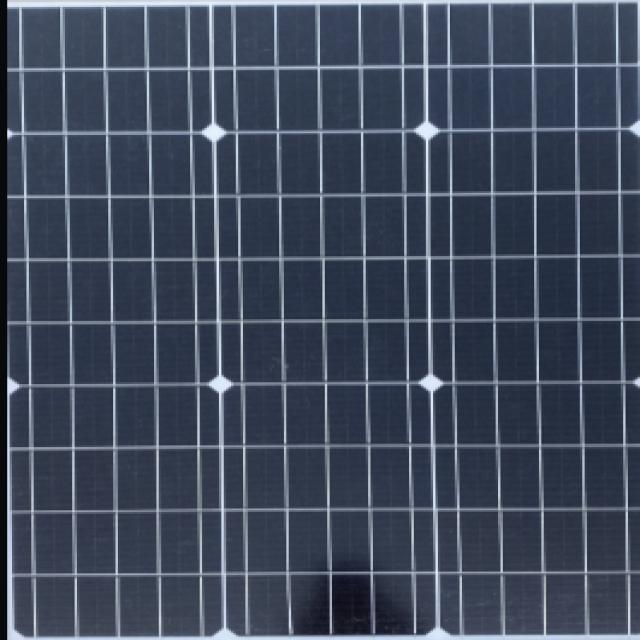clean-solar-panel: (237, 8, 273, 65)
